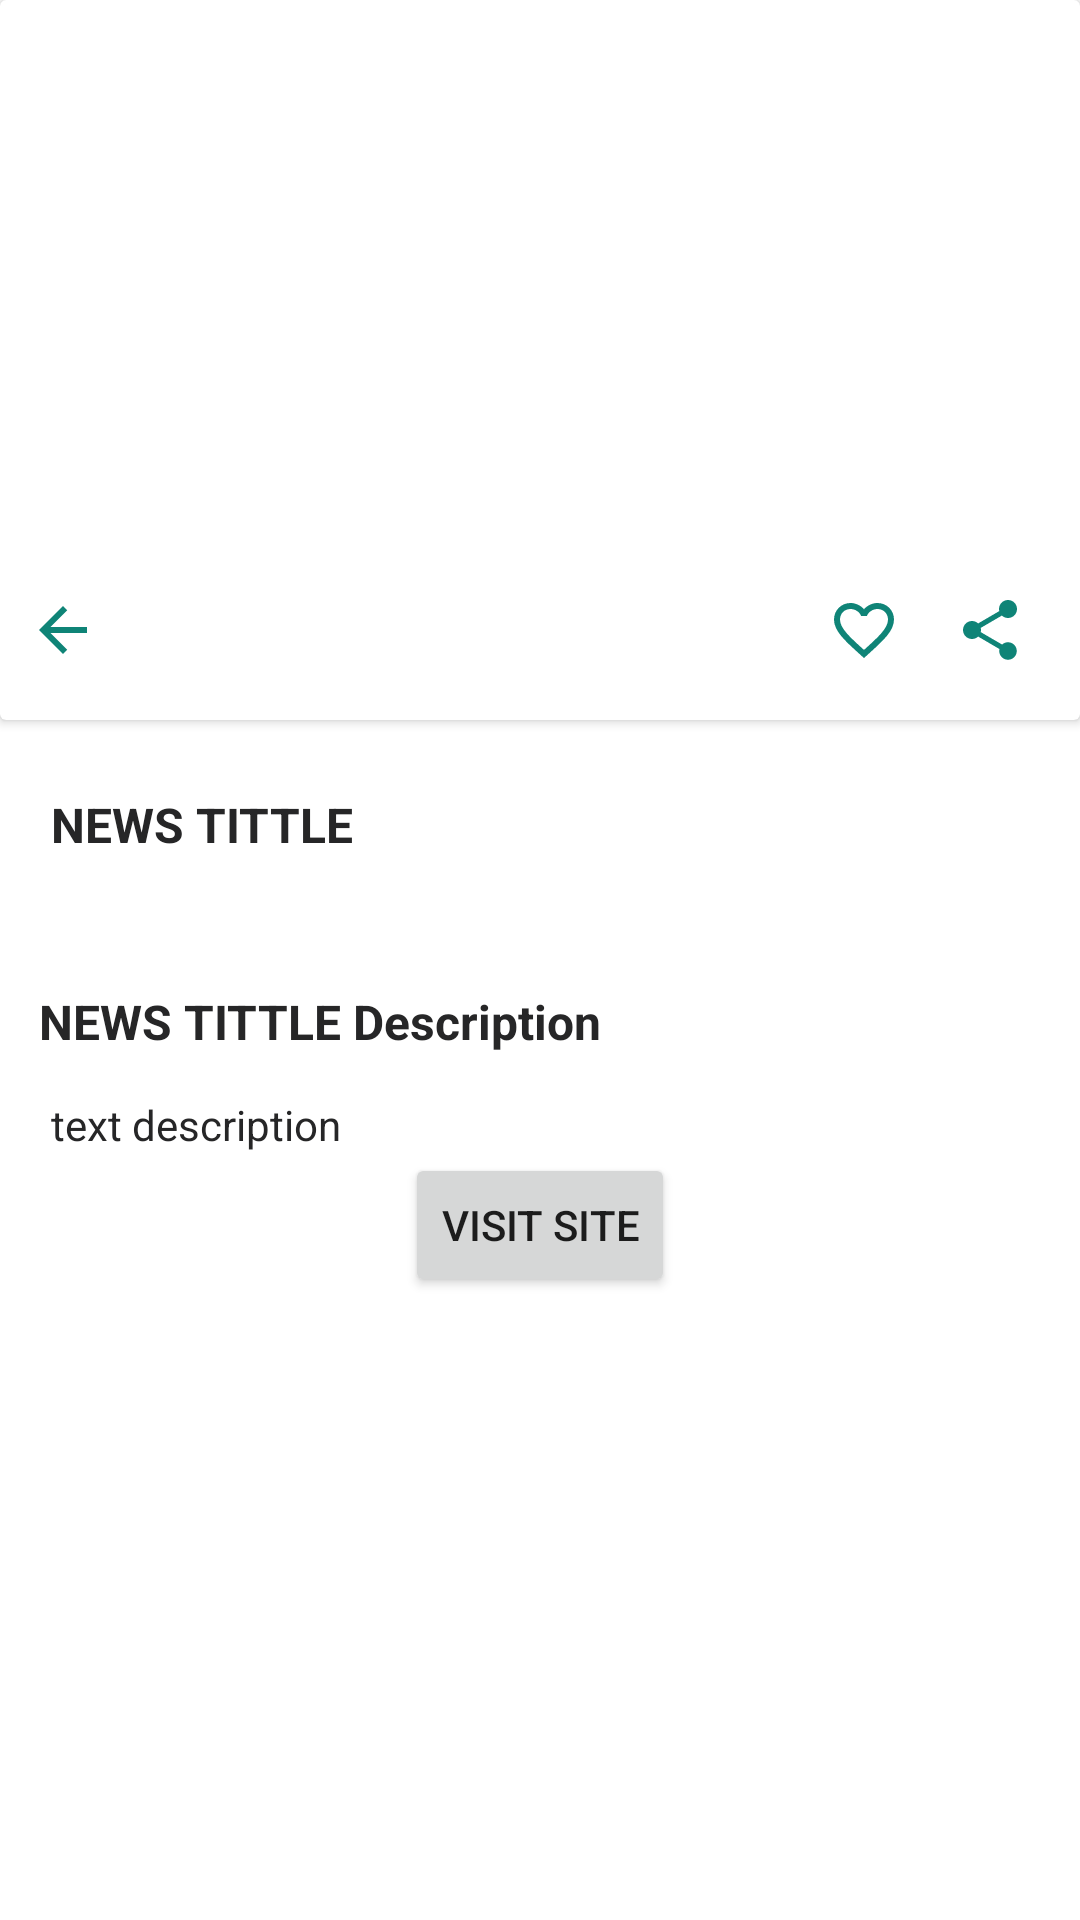

Icon bounding boxes for this 1080 × 1920 phone screenshot, format bbox=[x1, y1, x2, y2]:
arrow back: bbox=[39, 606, 87, 654]
favorite border: bbox=[834, 603, 894, 658]
share: bbox=[963, 600, 1017, 660]
